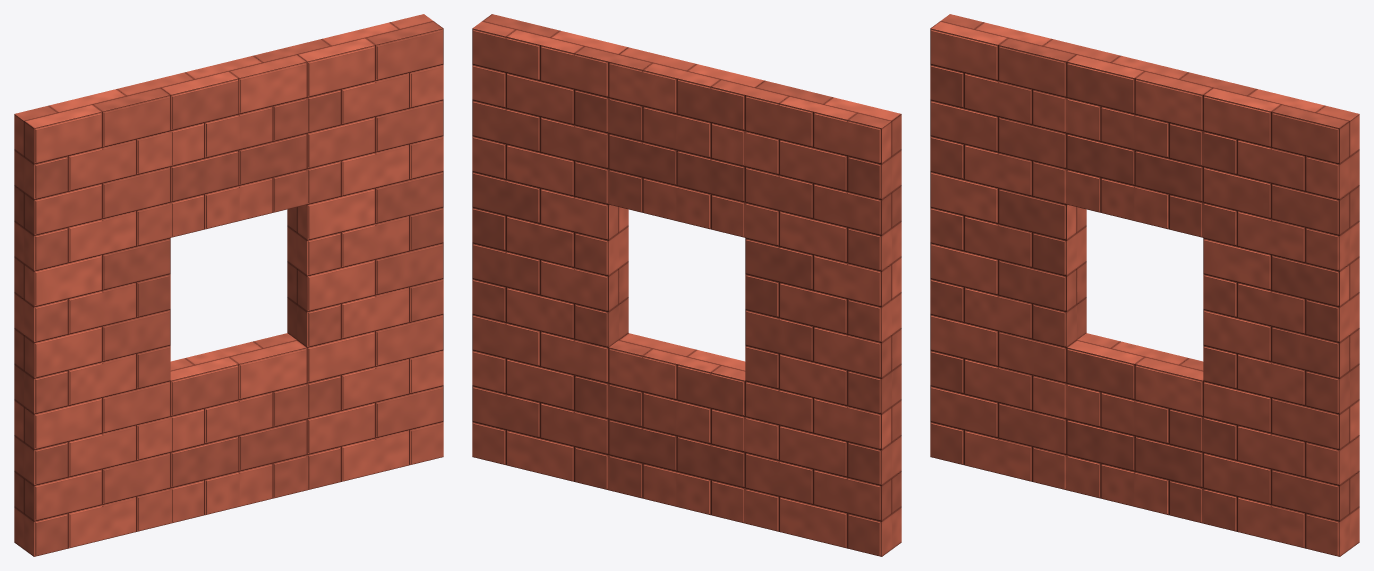
File: Kit_Brick_WallWindow.fbx
The picture shows the model from 3 angles, left to right: view 1: azimuth 30°, elevation 25°; view 2: azimuth 150°, elevation 25°; view 3: azimuth 330°, elevation 25°; orthographic projection.
Visible parts, largest first — view 1: Kit_Brick_WallWindow_LOD0; view 2: Kit_Brick_WallWindow_LOD0; view 3: Kit_Brick_WallWindow_LOD0.
Boxes of the visible parts, left/top/right/bottom form: Kit_Brick_WallWindow_LOD0: left=14, top=14, right=443, bottom=556; Kit_Brick_WallWindow_LOD0: left=472, top=14, right=901, bottom=556; Kit_Brick_WallWindow_LOD0: left=930, top=14, right=1359, bottom=556.
Size of what is drawn, in the model's own units: 3 by 3 by 0.27.
